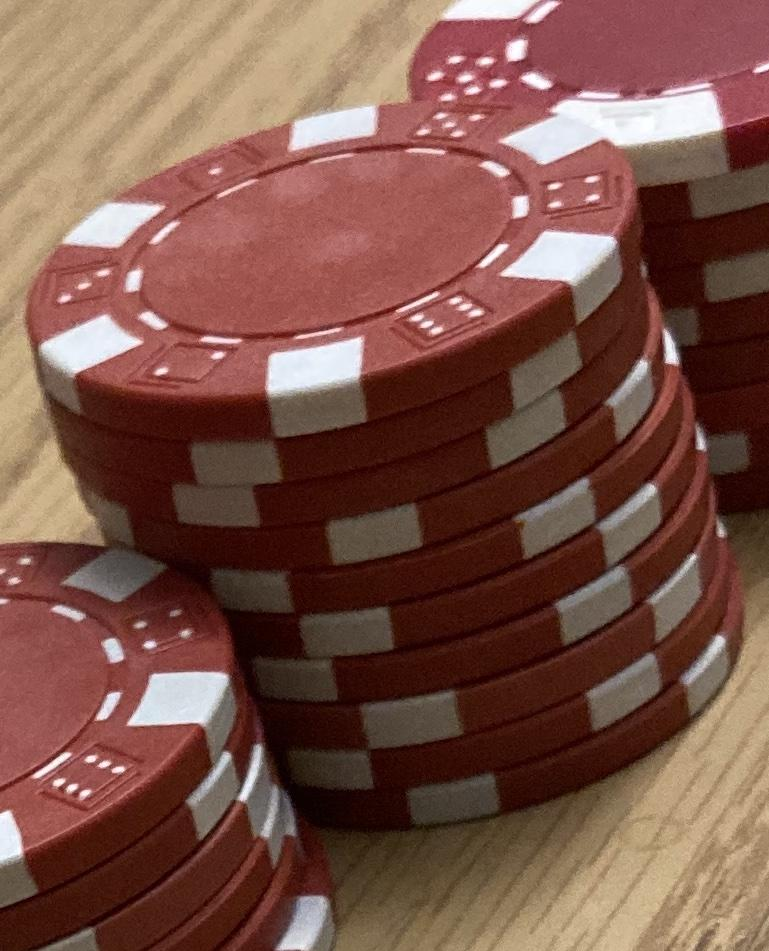Chip: (1, 1, 769, 951)
